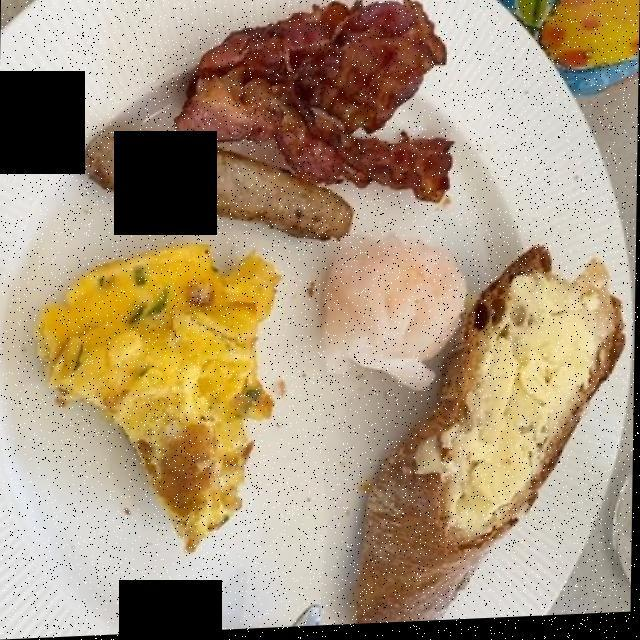bacon: (171, 11, 452, 207)
butter: (450, 267, 605, 529)
chives: (114, 260, 169, 325)
dumplings: (325, 235, 464, 394)
omelette: (26, 231, 260, 531)
sausage: (78, 130, 364, 245)
